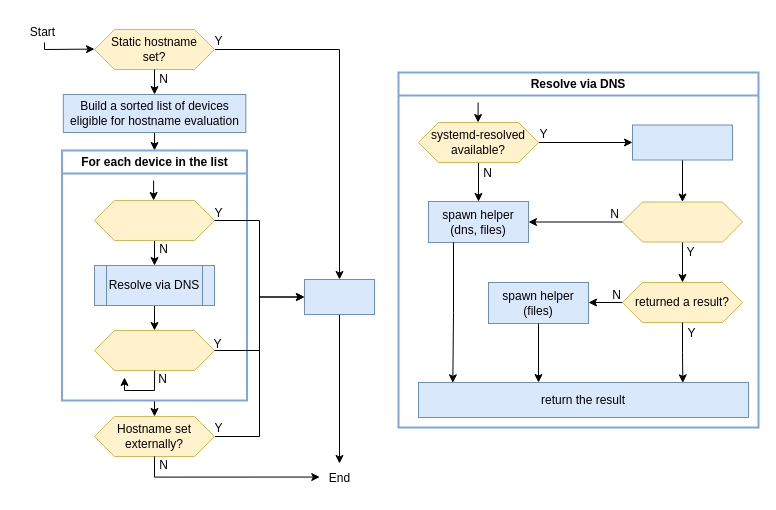
Some shapes in this 776 by 510 pixel diagram are drawn without their labels. Each missing label, with the box of its shape:
Got a hostname from DHCP?: (94, 200, 214, 240)
Got a hostname from DNS?: (94, 330, 214, 370)
Resolve via systemd-resolved: (632, 124, 732, 160)
systemd-resolved replied?: (622, 201, 742, 242)
Use it: (304, 278, 374, 314)
